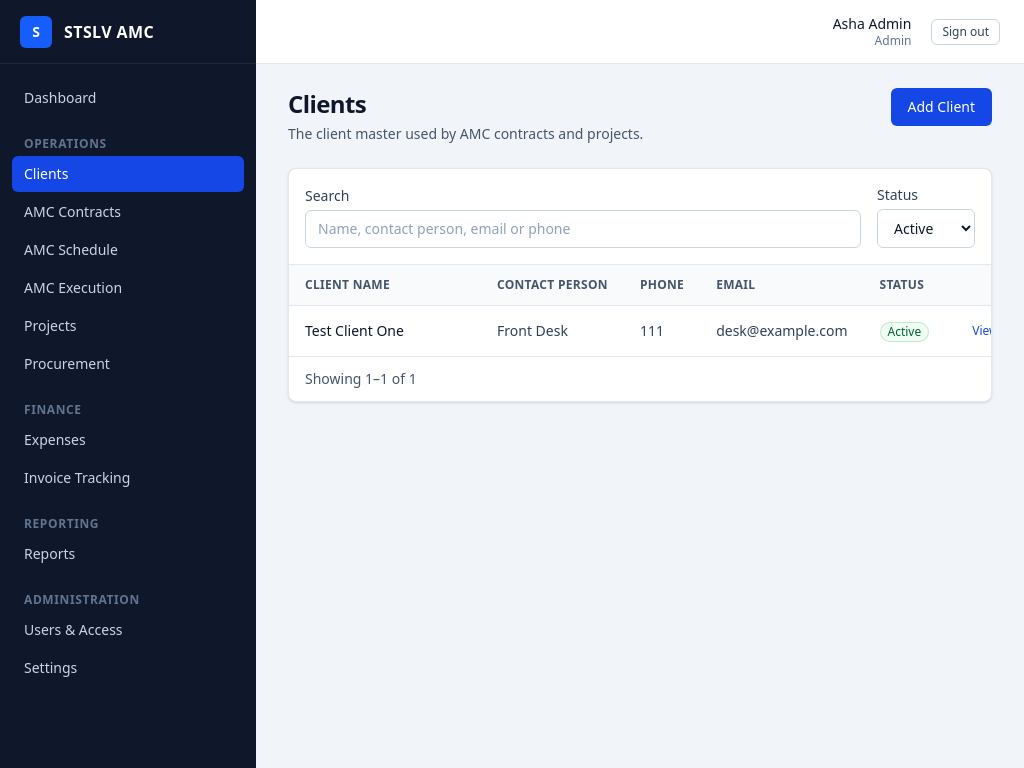
it: add client › shows a duplicate-name error from the API on the name field
Click the button "Add Client" at (941, 107), box 890,88 -> 992,126
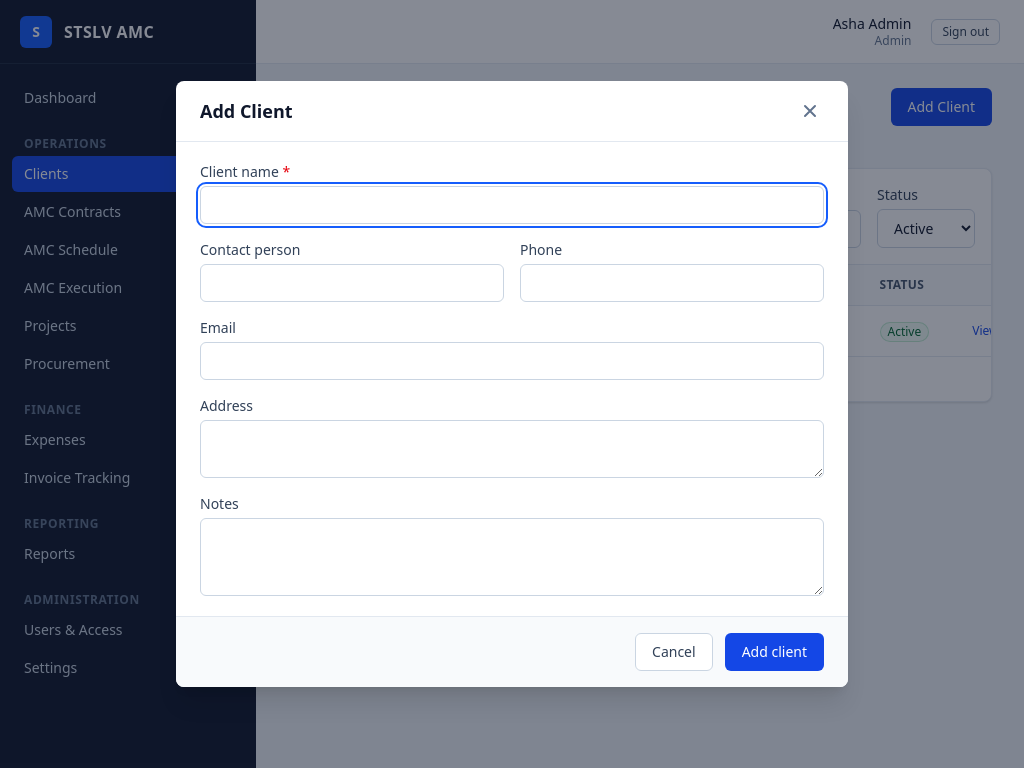
Type "Test Client One" into the field labelled "Client name *" at (512, 205), box 200,186 -> 824,224
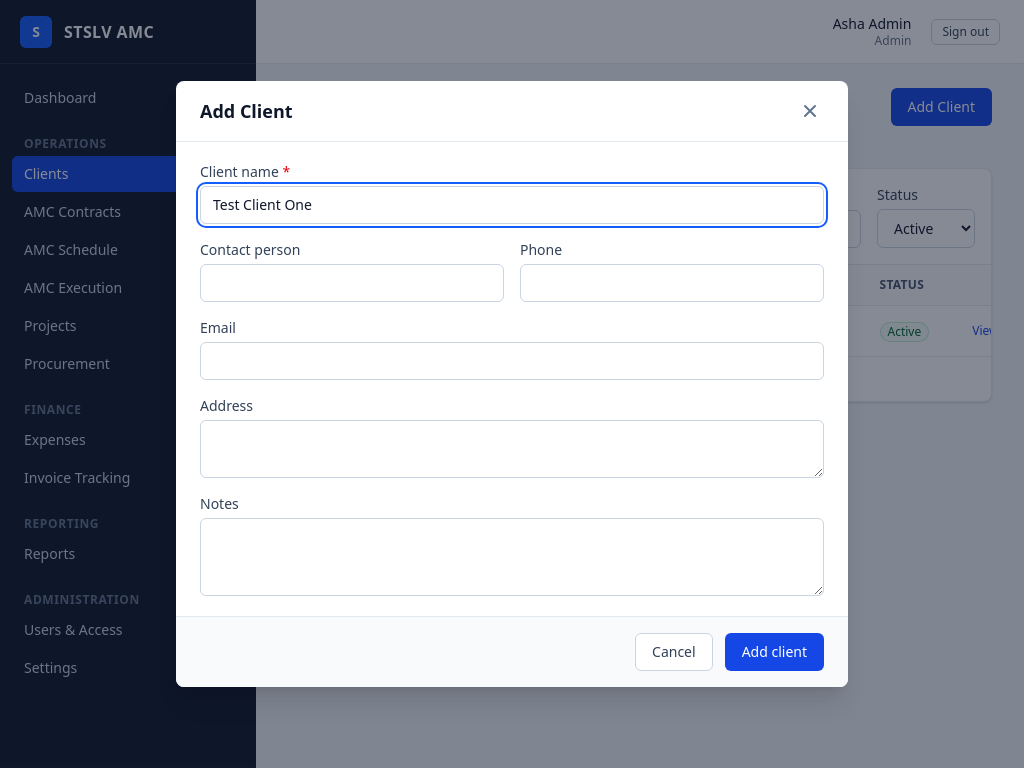
Click the button "Add client" at (774, 652), box 725,633 -> 824,671
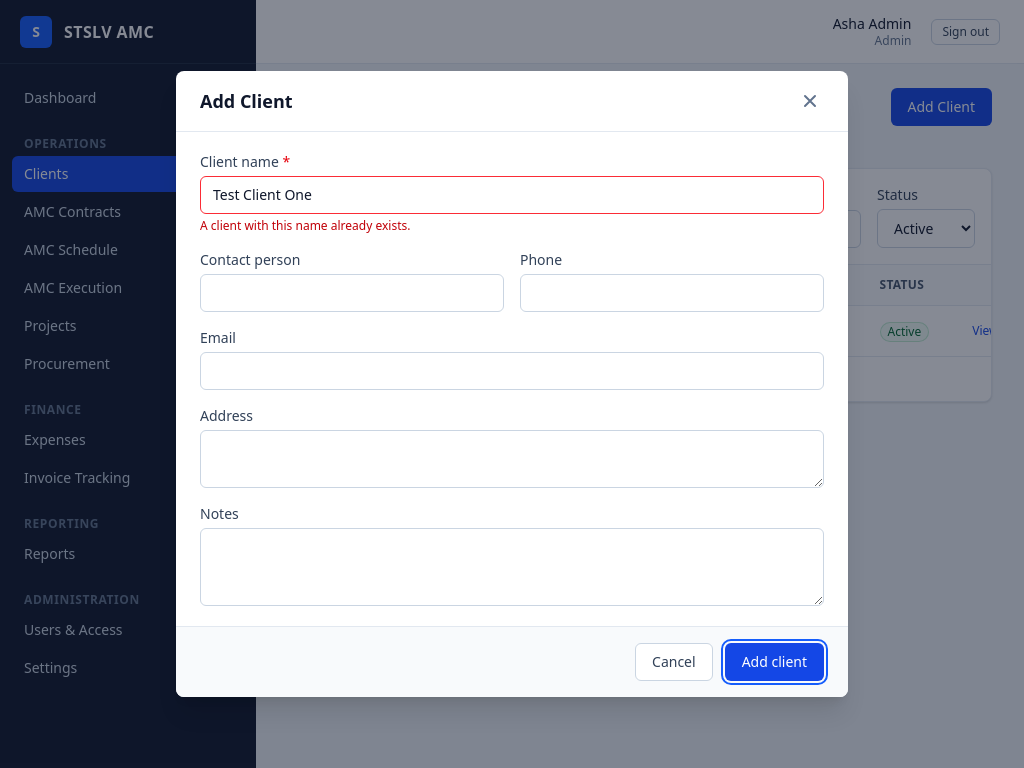
Now the dialog "Add Client" is shown, box 176,71 -> 848,697
Now the text "A client with this name already exists." is shown, box 200,217 -> 410,234
